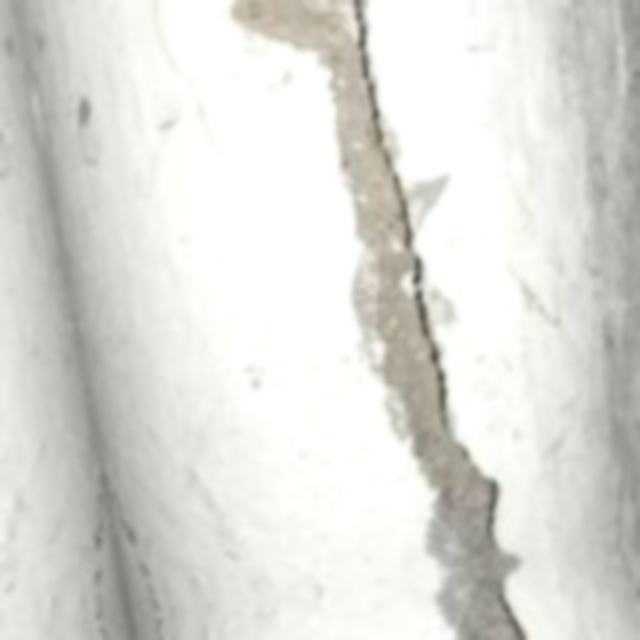SurfaceCrack: (316, 0, 546, 640)
